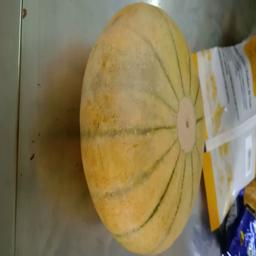Melon Semifresh: (81, 3, 205, 255)
